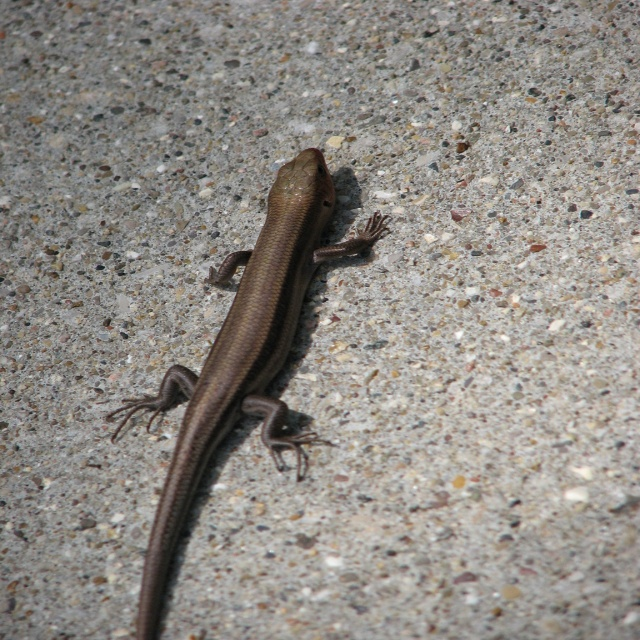Lizard: (105, 148, 392, 640)
